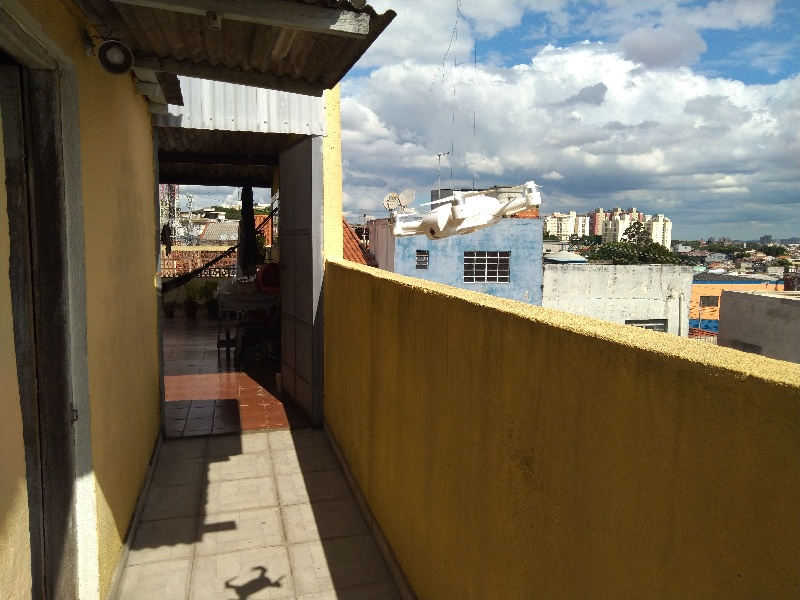drone: (384, 178, 552, 245)
